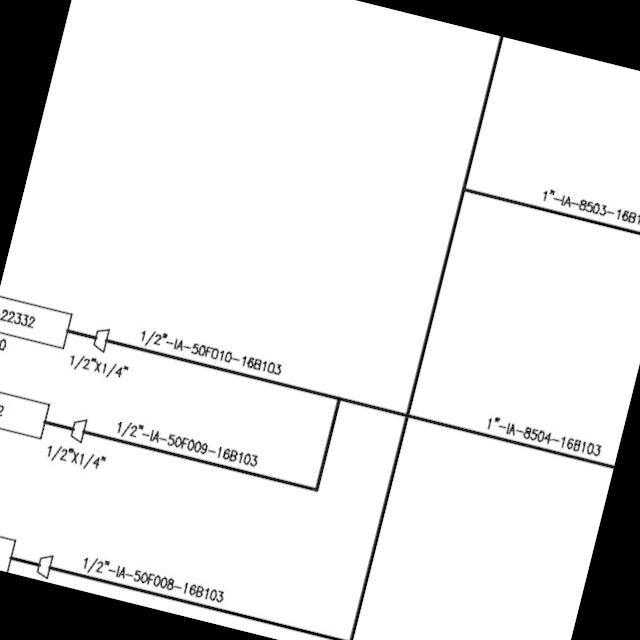SP: (30, 548, 56, 580), (87, 320, 112, 352), (66, 411, 90, 443)
